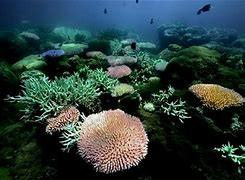bleached_corals: (71, 102, 155, 180), (20, 66, 120, 123), (56, 108, 88, 155), (42, 105, 83, 137), (54, 116, 88, 154), (162, 97, 192, 128), (124, 60, 151, 87), (149, 82, 177, 107), (120, 80, 131, 84)
